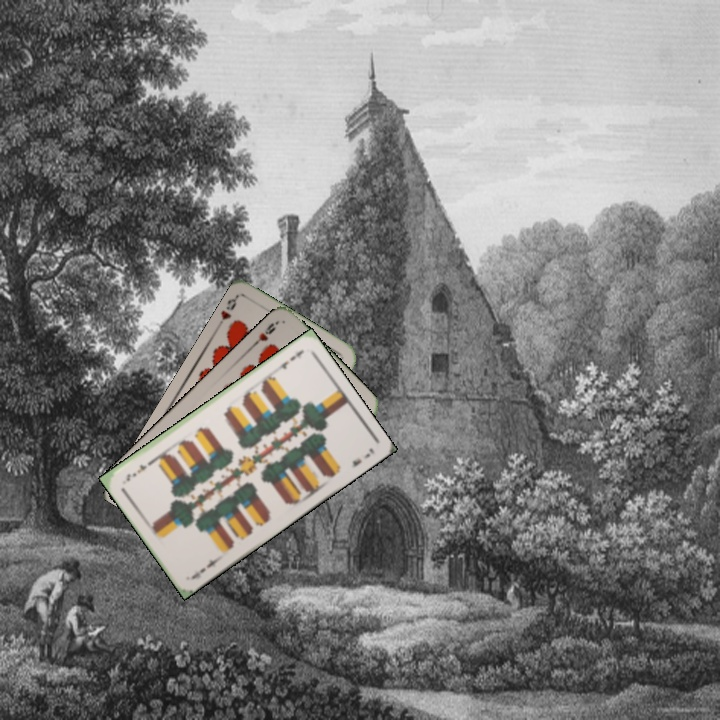E7: (271, 345, 306, 375), (187, 553, 223, 582)
H9: (248, 318, 281, 349), (214, 292, 240, 330)
